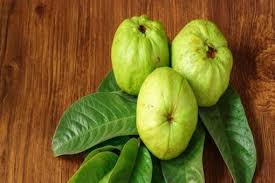guava: (136, 66, 199, 161), (171, 15, 234, 107), (109, 13, 169, 96)
